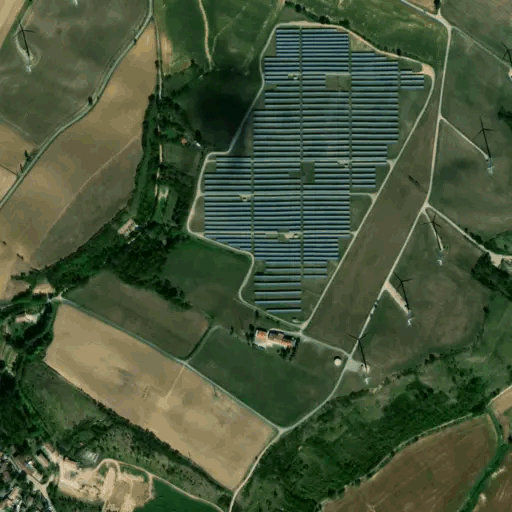wt: (340, 334, 385, 391), (465, 111, 500, 181), (390, 264, 426, 331), (418, 208, 456, 268), (12, 13, 47, 78)
